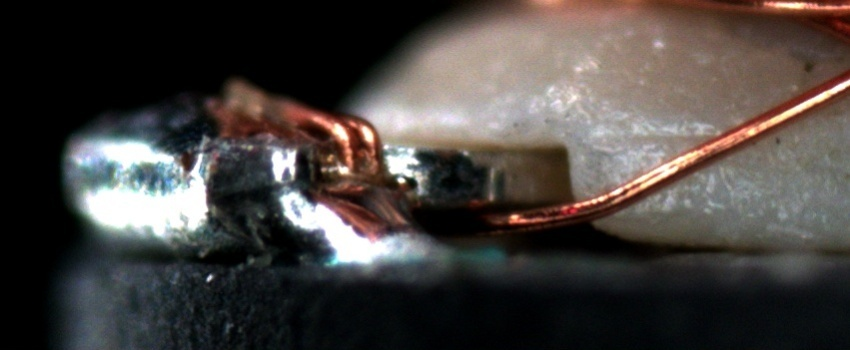DL: (622, 107, 760, 169)
TE: (261, 97, 389, 184)
